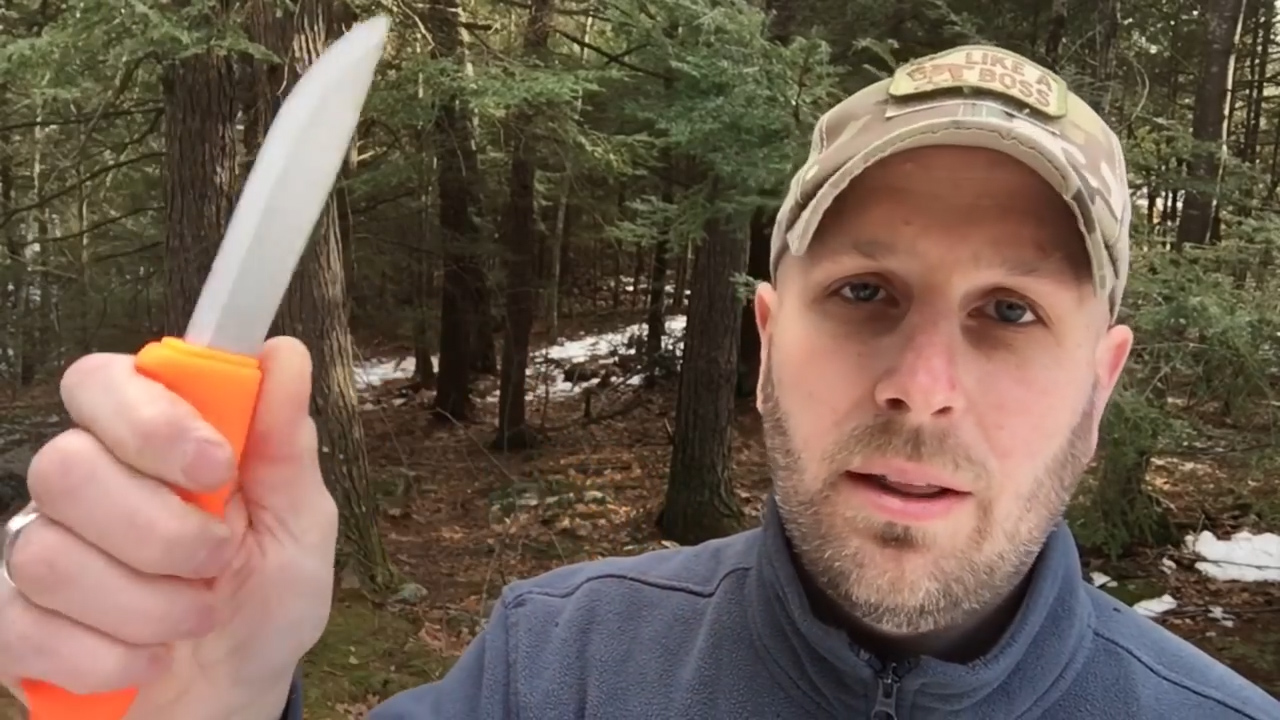knife: (17, 1, 403, 509)
